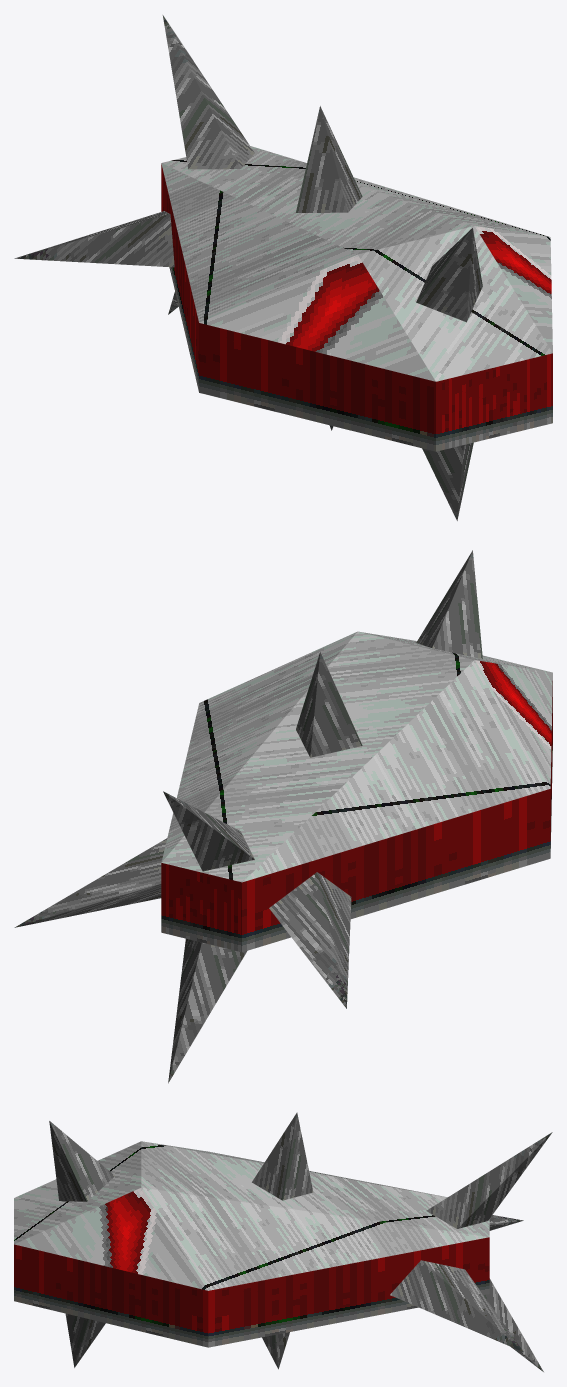
Rendered from model_073_robot.glb.
The picture shows the model from 3 angles, top to bottom: view 1: azimuth 30°, elevation 25°; view 2: azimuth 150°, elevation 25°; view 3: azimuth 270°, elevation 25°; orthographic projection. The views are drawn at different scales.
Visible parts, largest first — view 1: model_073; view 2: model_073; view 3: model_073.
Part boxes in pixels (x1,y1,x2,y2): model_073: [14, 15, 552, 520]; model_073: [14, 550, 552, 1083]; model_073: [14, 1112, 552, 1371].
Size of the model in its own units: 4.89 by 4.27 by 8.
4 materials, 4 textured.
